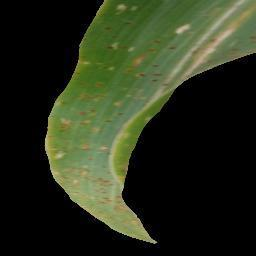Corn_Common_Rust: (47, 103, 170, 253), (71, 41, 180, 107), (169, 26, 231, 59), (98, 1, 140, 38), (233, 20, 256, 64), (149, 18, 168, 63), (52, 74, 74, 107), (190, 11, 256, 21)
